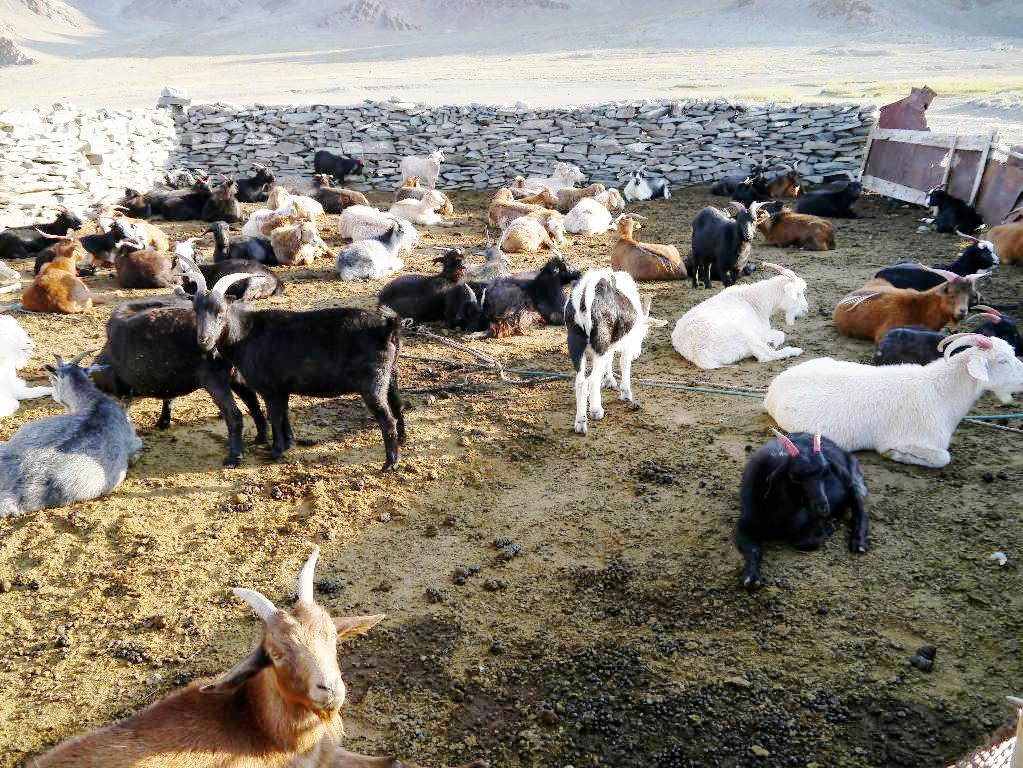Sheep: (13, 544, 426, 765), (173, 267, 430, 474), (108, 250, 274, 474), (758, 331, 1022, 467), (0, 354, 146, 518), (730, 421, 871, 587), (560, 266, 666, 430), (667, 262, 814, 372), (444, 244, 583, 336), (833, 263, 993, 332), (863, 306, 1021, 366), (164, 234, 291, 298), (869, 232, 1003, 292), (376, 244, 476, 324), (437, 228, 518, 318), (26, 223, 99, 316), (687, 200, 762, 290), (326, 214, 420, 284), (720, 197, 838, 251), (0, 310, 56, 420), (458, 276, 566, 333), (602, 213, 688, 283), (0, 200, 84, 264), (103, 229, 180, 289), (95, 194, 171, 254), (196, 220, 278, 272), (269, 214, 338, 268), (912, 176, 979, 230), (791, 178, 874, 220), (74, 213, 138, 266), (493, 206, 566, 252), (563, 187, 626, 235), (706, 157, 770, 203), (509, 156, 583, 194), (484, 184, 550, 226), (336, 202, 408, 240), (164, 170, 216, 222), (983, 201, 1023, 268), (391, 173, 454, 214), (309, 174, 370, 216), (384, 190, 460, 221), (220, 162, 280, 201), (244, 200, 302, 239), (618, 162, 671, 204), (396, 147, 442, 192), (758, 160, 808, 200), (310, 148, 360, 186), (162, 168, 210, 206), (206, 174, 242, 223), (260, 184, 324, 211), (124, 182, 167, 221), (155, 164, 194, 207), (497, 183, 559, 210), (554, 181, 604, 210)
